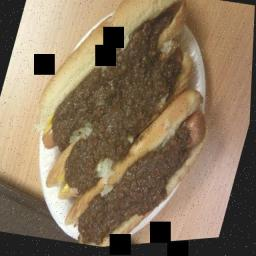hotdog: (170, 108, 218, 163), (40, 118, 64, 161), (160, 44, 189, 78)
